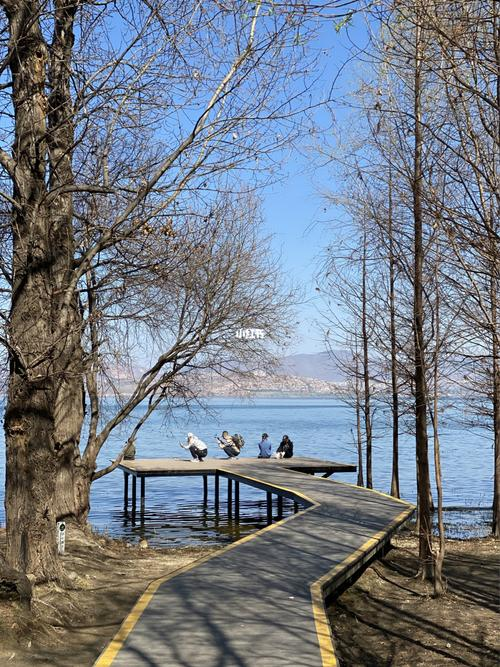sea_river: (85, 384, 457, 491)
